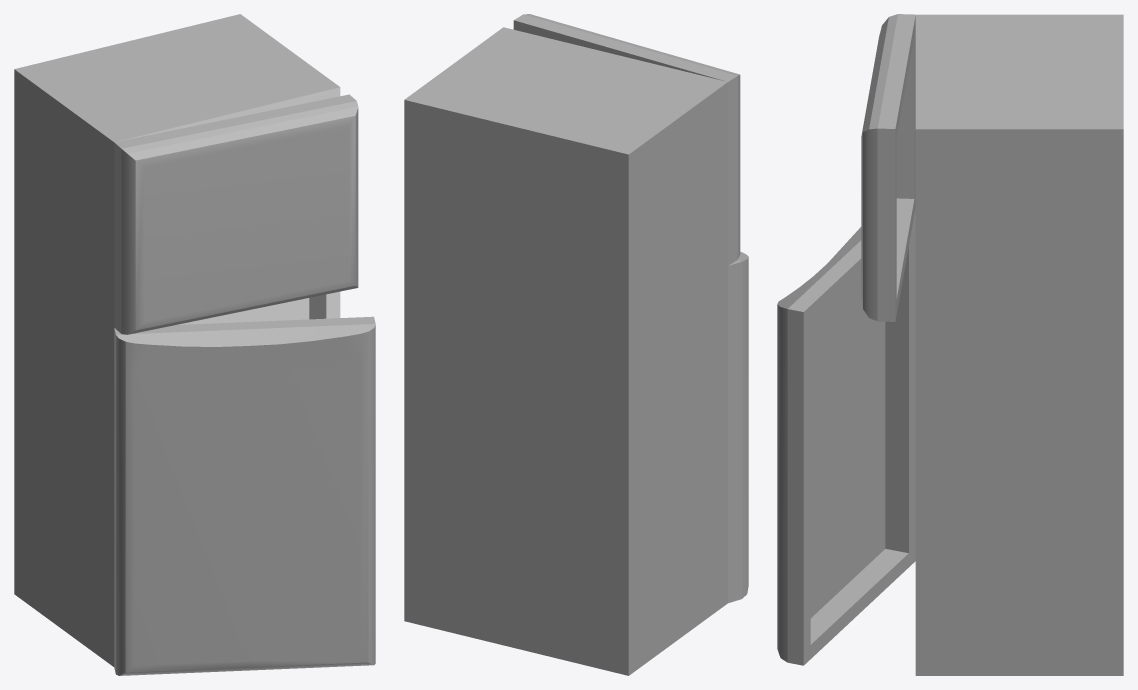
File: fridge_a.fbx
3 views of the same model, side by side, from view 1: azimuth 30°, elevation 25°; view 2: azimuth 150°, elevation 25°; view 3: azimuth 270°, elevation 25° (orthographic). The views are drawn at different scales.
Parts seen in each view (by area): view 1: fridge_a; view 2: fridge_a; view 3: fridge_a.
Boxes of the visible parts, x1,y1,x2,y2 form: fridge_a: (14, 14, 375, 675); fridge_a: (404, 14, 748, 675); fridge_a: (777, 14, 1123, 675).
Size of the model in its own units: 15.82 by 34 by 19.53.
2 materials, 2 textured.
